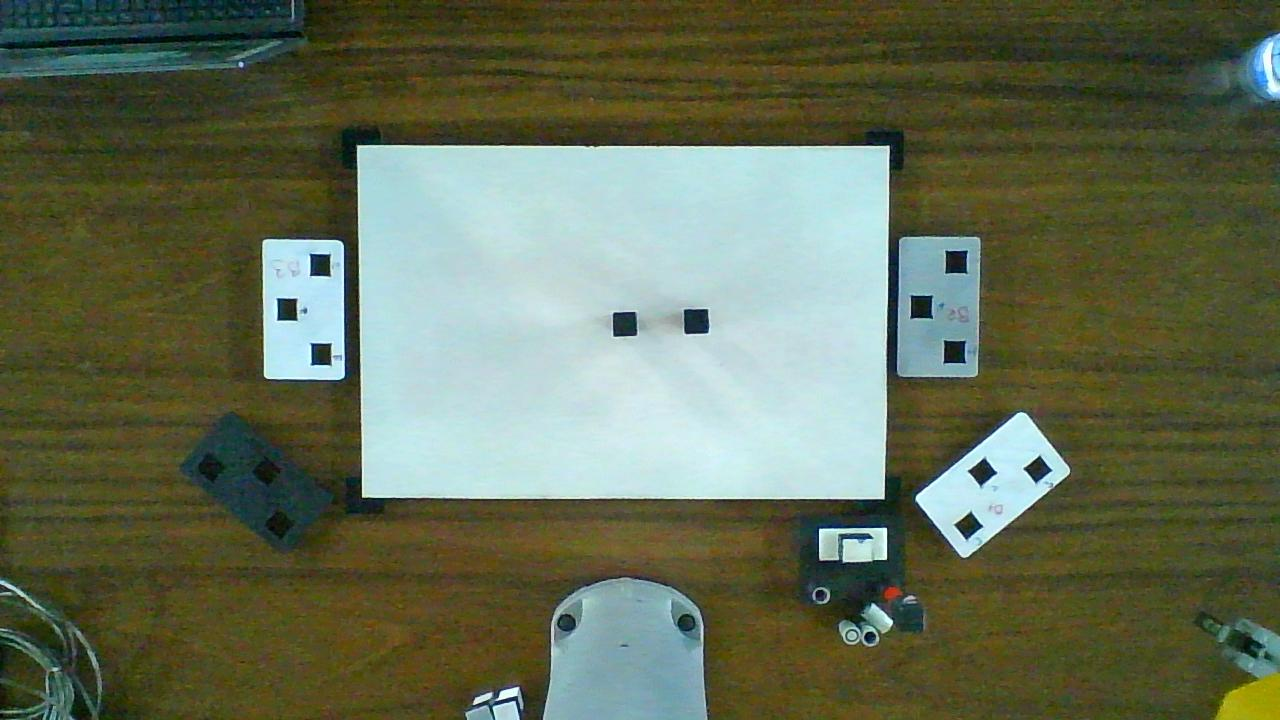peca_preta: (613, 313, 636, 336), (685, 310, 707, 333)
